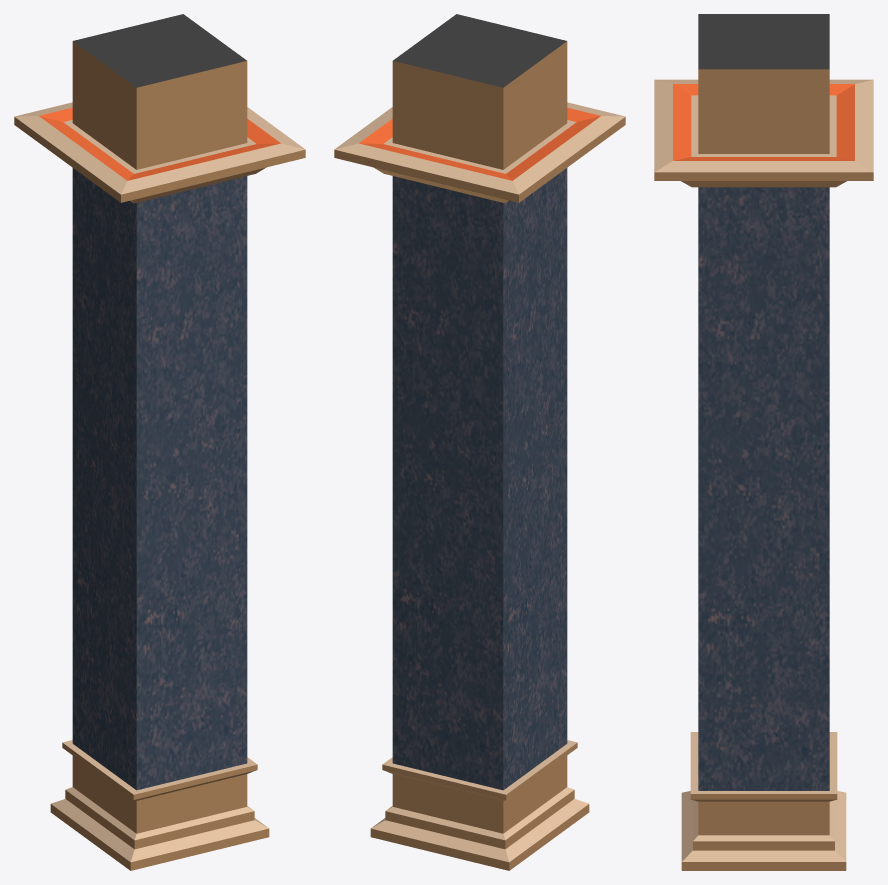
File: mesh_wall_04.fbx
The picture shows the model from 3 angles, left to right: view 1: azimuth 30°, elevation 25°; view 2: azimuth 150°, elevation 25°; view 3: azimuth 270°, elevation 25°; orthographic projection. The views are drawn at different scales.
Visible parts, largest first — view 1: mesh_wall_04; view 2: mesh_wall_04; view 3: mesh_wall_04.
Part boxes in pixels (x1,y1,x2,y2): mesh_wall_04: (14,14,305,870); mesh_wall_04: (334,14,625,870); mesh_wall_04: (654,14,873,870).
Size of the model in its own units: 0.01 by 0.01 by 0.04.
